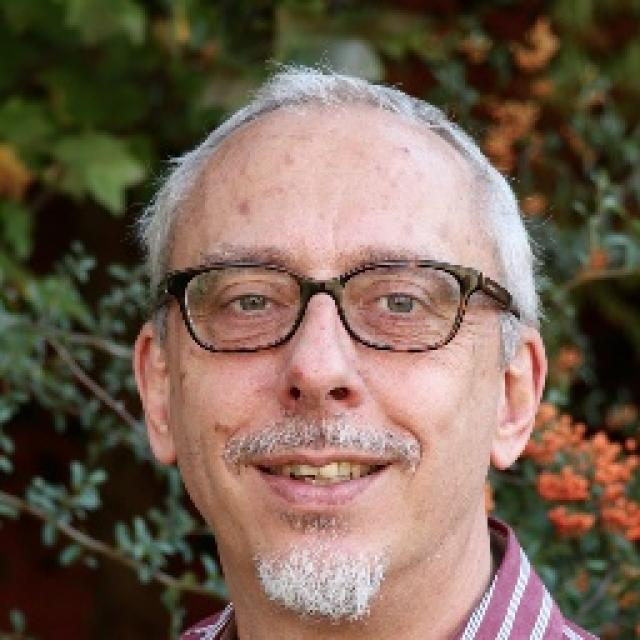earlobe: (489, 424, 522, 472), (148, 422, 178, 468)
eye: (364, 292, 430, 320), (222, 291, 283, 320)
nose: (274, 381, 364, 436)
wholeear: (489, 327, 547, 472), (133, 320, 177, 468)
